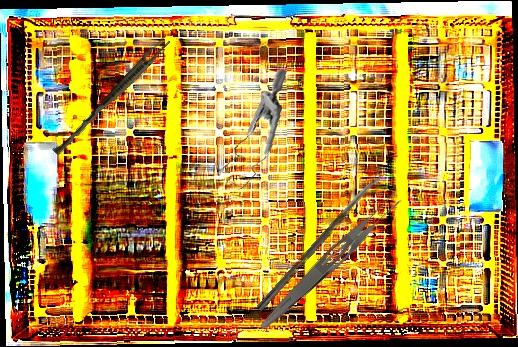Dressing Forceps: (255, 187, 407, 338)
Speculum: (204, 68, 299, 193)
Surgical Spoon: (256, 171, 384, 313)
Tissue Forceps: (51, 32, 173, 161)
